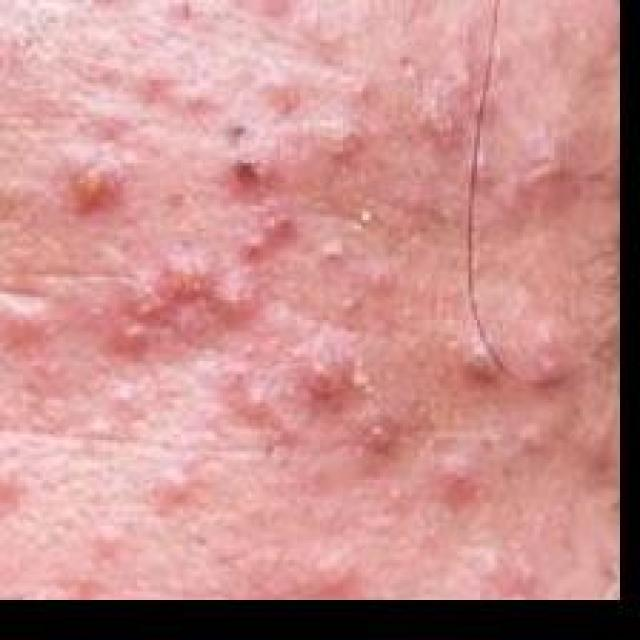others: (0, 0, 620, 589)
